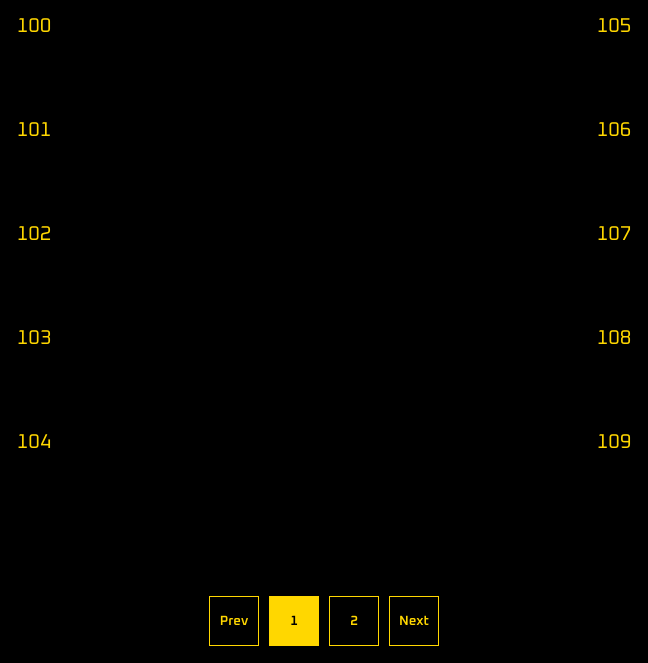
Test: heroesList component › changes elements after changing pagination page
Expected: the text "100" is shown, [17,16,51,36]
Expected: the text "105" is shown, [597,16,631,36]
What coordinates should you click on to do the following:
click the button "Next"
I would click on:
 (414, 621)
Its box is [389,596,439,646].
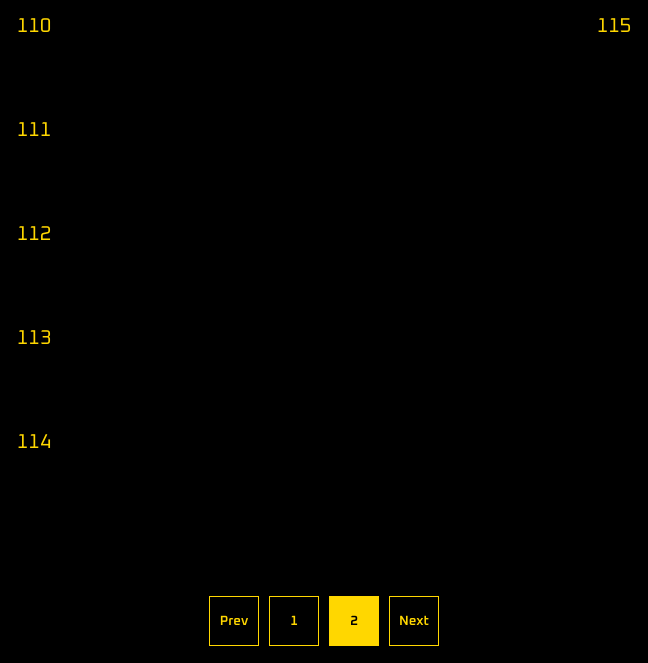
Expected: the text "110" is shown, [17,16,51,36]
Expected: the link "108" is gone
